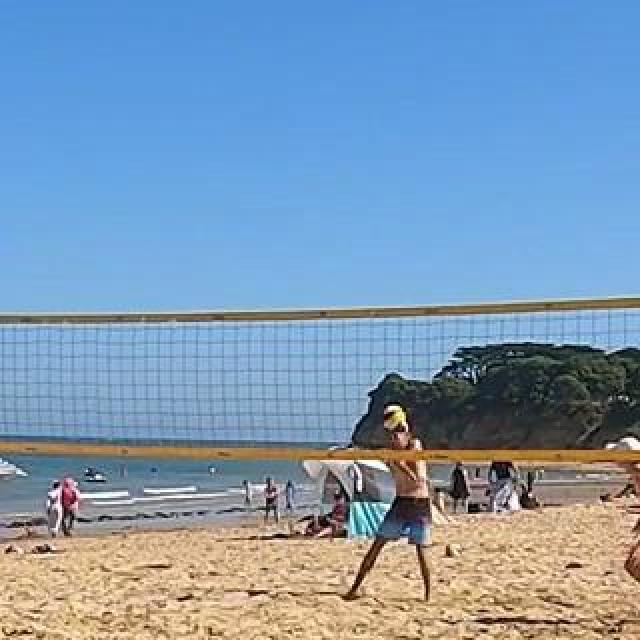volleyball: (383, 407, 405, 429), (445, 542, 463, 560)
